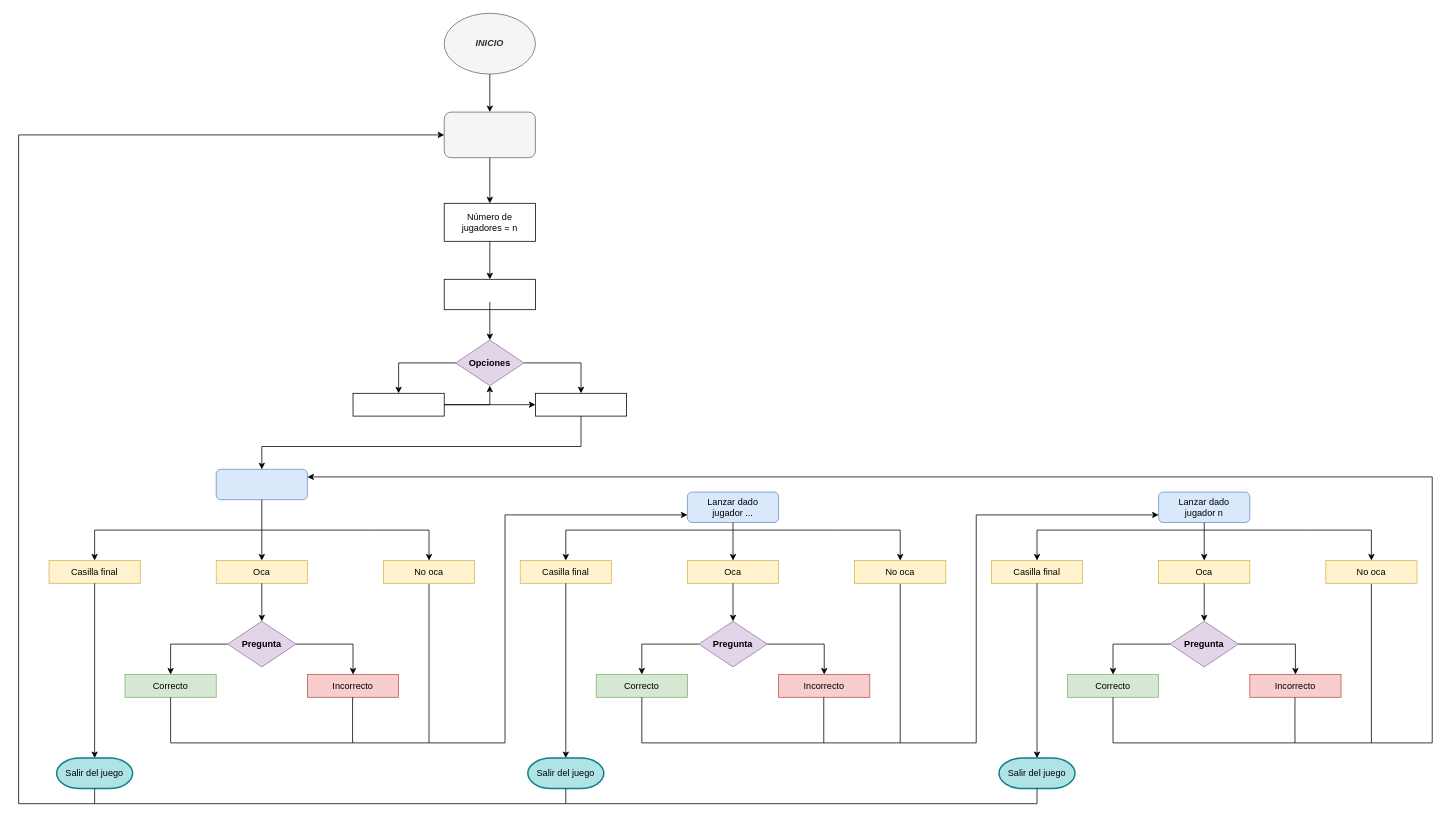
The diagram is 1452 pixels wide and 818 high, and some of its shapes have lost their labels. Each missing label, with the centre of its shape:
"Iniciar juego" goes at point (581, 404).
"Lanzar dado jugador 1" goes at point (261, 484).
"MENU DE INICIO" goes at point (489, 134).
"Registro de cada jugador" goes at point (489, 294).
"Reglas del juego" goes at point (398, 404).
